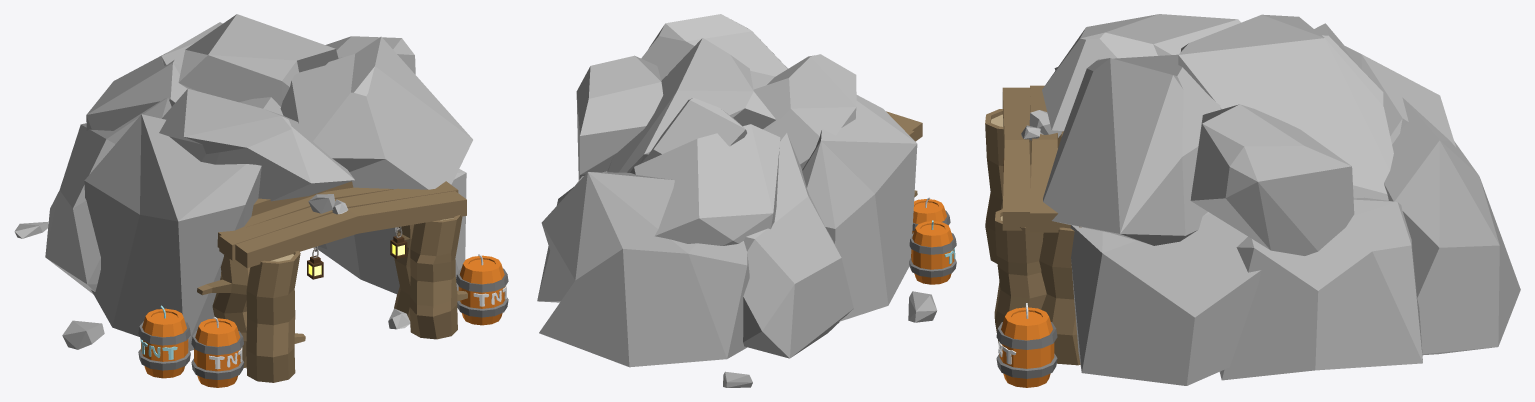
The model's file is Mina.fbx.
3 views of the same model, side by side, from view 1: azimuth 30°, elevation 25°; view 2: azimuth 150°, elevation 25°; view 3: azimuth 270°, elevation 25° (orthographic). The views are drawn at different scales.
Parts seen in each view (by area): view 1: Mina; view 2: Mina; view 3: Mina.
Boxes of the visible parts, <box> form: Mina: <box>14,14,508,387</box>; Mina: <box>537,14,956,387</box>; Mina: <box>985,14,1520,387</box>.
Size of the model in its own units: 7.96 by 5.09 by 8.45.
